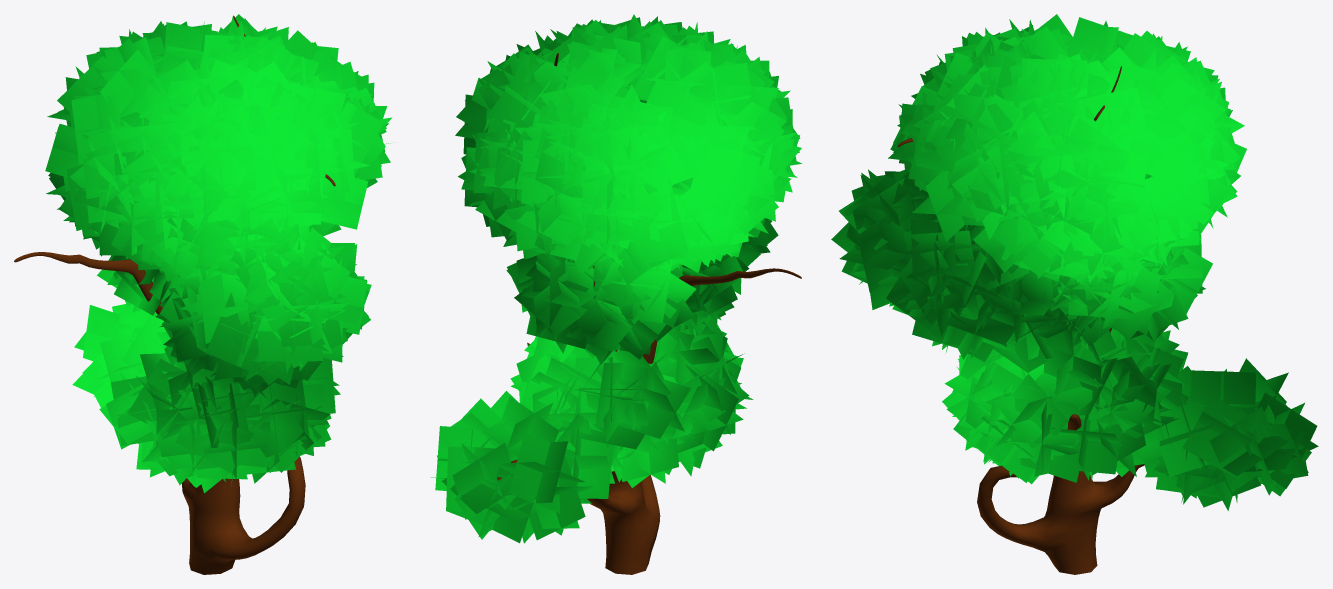
Rendered from ThickTree1.fbx.
3 renders of one model, left to right at view 1: azimuth 30°, elevation 25°; view 2: azimuth 150°, elevation 25°; view 3: azimuth 270°, elevation 25°, orthographic.
Parts seen in each view (by area): view 1: ThickTree1_LOD0; view 2: ThickTree1_LOD0; view 3: ThickTree1_LOD0.
Boxes of the visible parts, <box> form: ThickTree1_LOD0: <box>14,14,392,574</box>; ThickTree1_LOD0: <box>431,14,801,574</box>; ThickTree1_LOD0: <box>831,14,1318,574</box>.
Size of what is drawn, in the model's own units: 1971 by 2868 by 2399.
